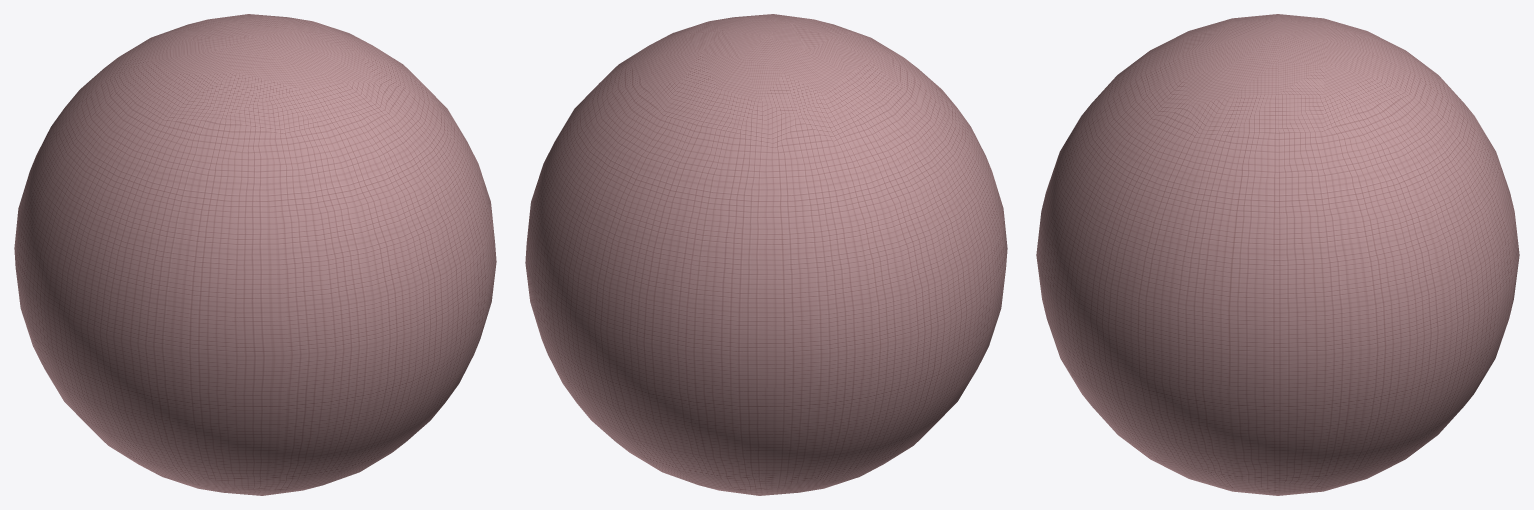
The model's file is Suelo.fbx.
The picture shows the model from 3 angles, left to right: view 1: azimuth 30°, elevation 25°; view 2: azimuth 150°, elevation 25°; view 3: azimuth 270°, elevation 25°; orthographic projection.
Visible parts, largest first — view 1: Suelo; view 2: Suelo; view 3: Suelo.
Part boxes in pixels (box(x1,y1,x2,y2)): Suelo: box(14, 14, 496, 495); Suelo: box(525, 14, 1007, 495); Suelo: box(1036, 14, 1519, 495).
Bounding box in the file's own units: 100 × 100 × 100.
1 material, 1 textured.
